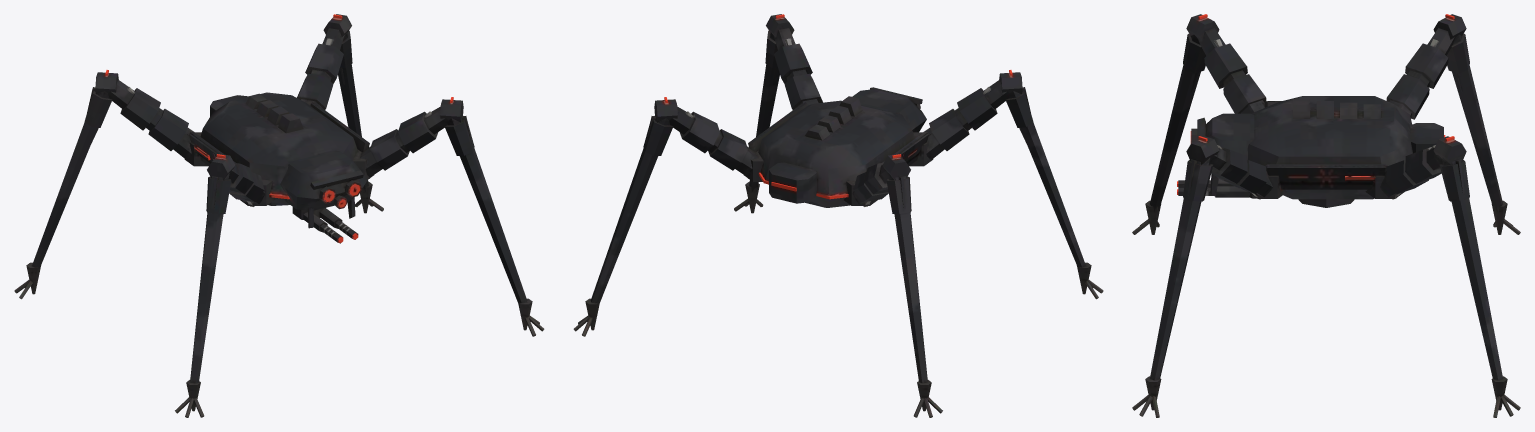
Rendered from hs_swarm_walker_lod1.glb.
3 renders of one model, left to right at view 1: azimuth 30°, elevation 25°; view 2: azimuth 150°, elevation 25°; view 3: azimuth 270°, elevation 25°, orthographic. The views are drawn at different scales.
Size of the model in its own units: 7.39 by 4.4 by 6.29.
Materials: 1 (1 with a texture image).
